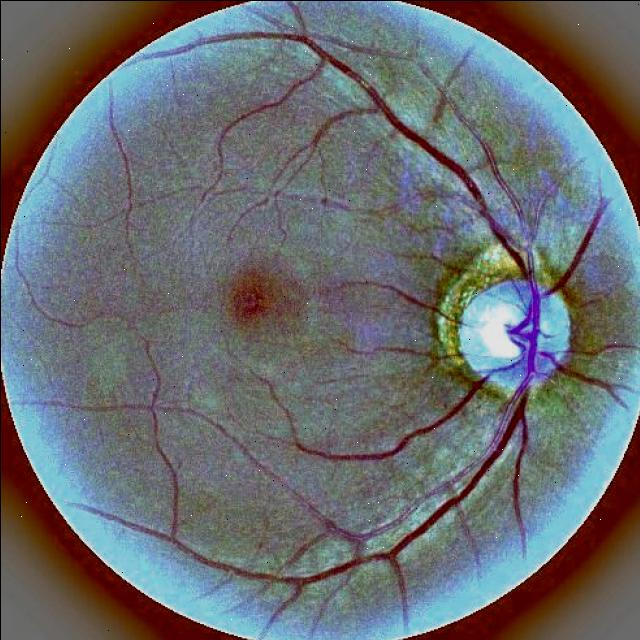Macula: (224, 272, 279, 334)
Nerves: (125, 31, 632, 591), (284, 369, 489, 460), (289, 466, 470, 562), (375, 284, 445, 319), (380, 347, 446, 372)
Optic Disk: (462, 284, 568, 387)
